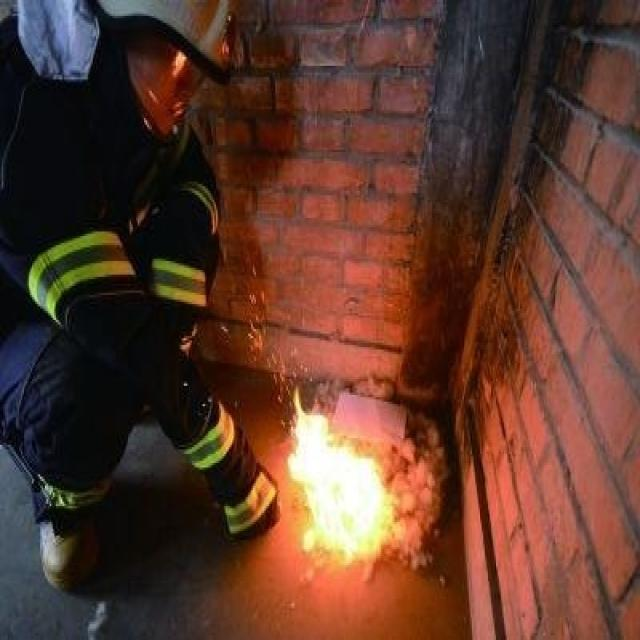Fire: (288, 388, 395, 563)
